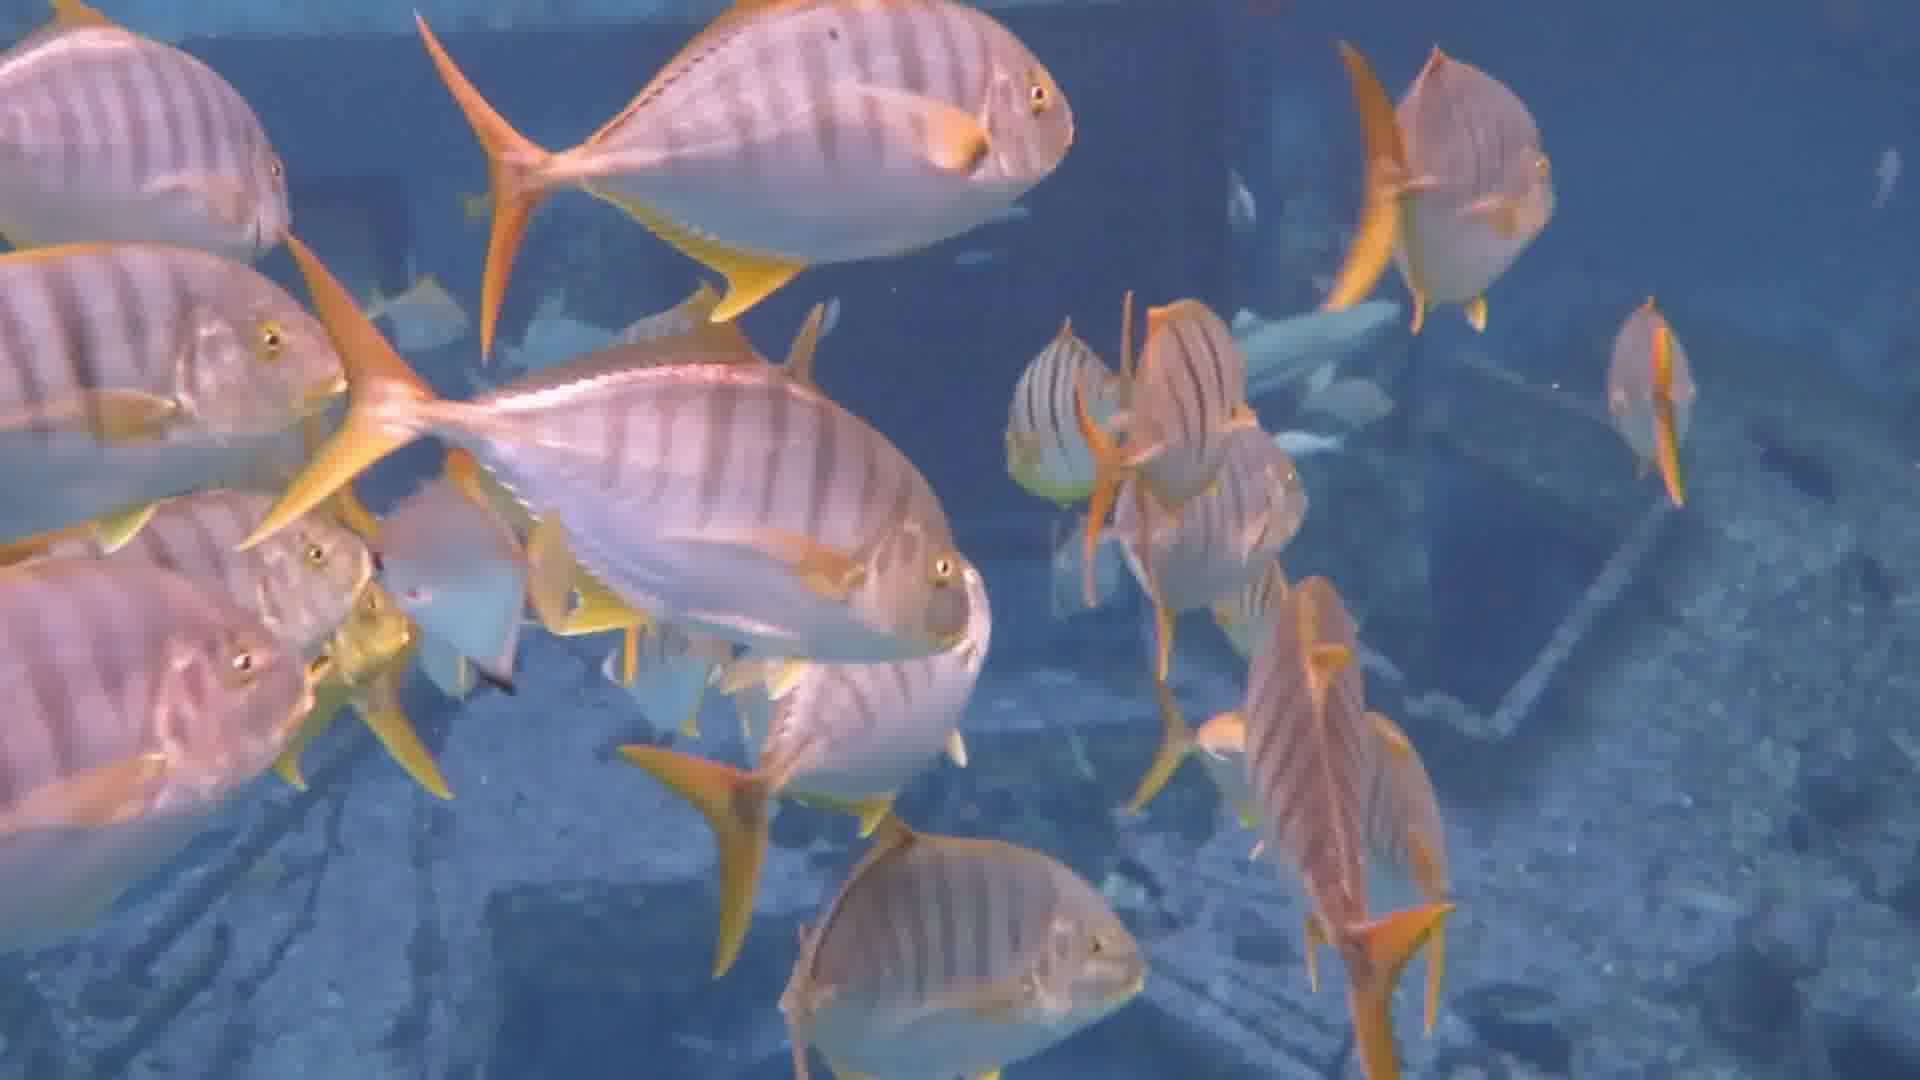Gnathanodon speciosus: (331, 278, 997, 688), (479, 11, 1127, 276), (749, 835, 1207, 1039), (11, 549, 307, 832), (5, 229, 339, 467)
